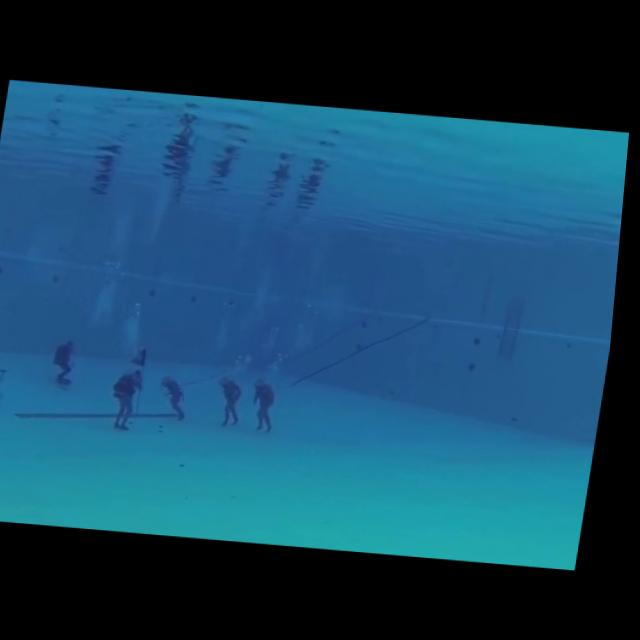human: (106, 357, 156, 442), (248, 366, 291, 438), (211, 366, 256, 432), (49, 328, 93, 393), (153, 365, 197, 429)
